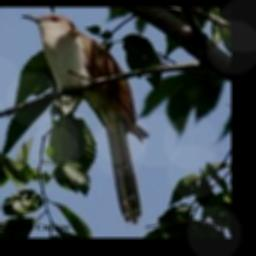Cuckoo: (21, 14, 149, 224)
